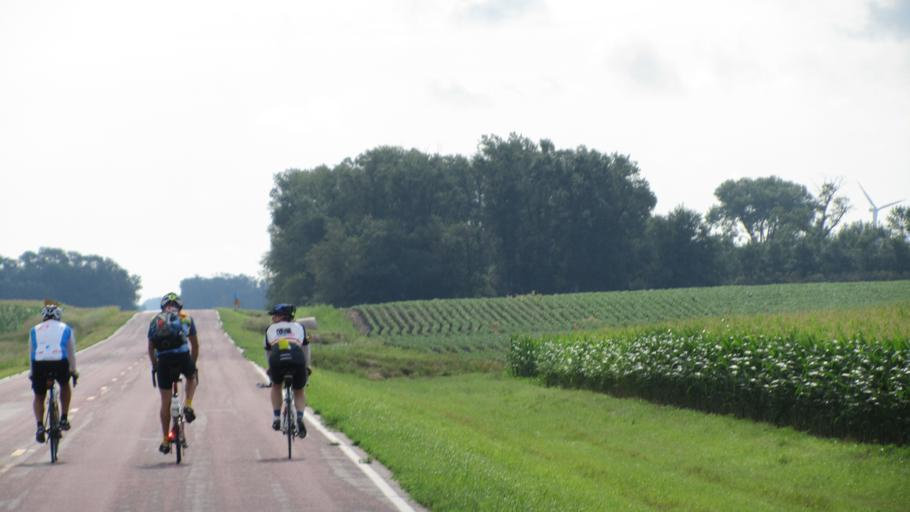non-vehicle: (257, 367, 312, 460), (151, 364, 198, 462), (30, 367, 77, 461)
